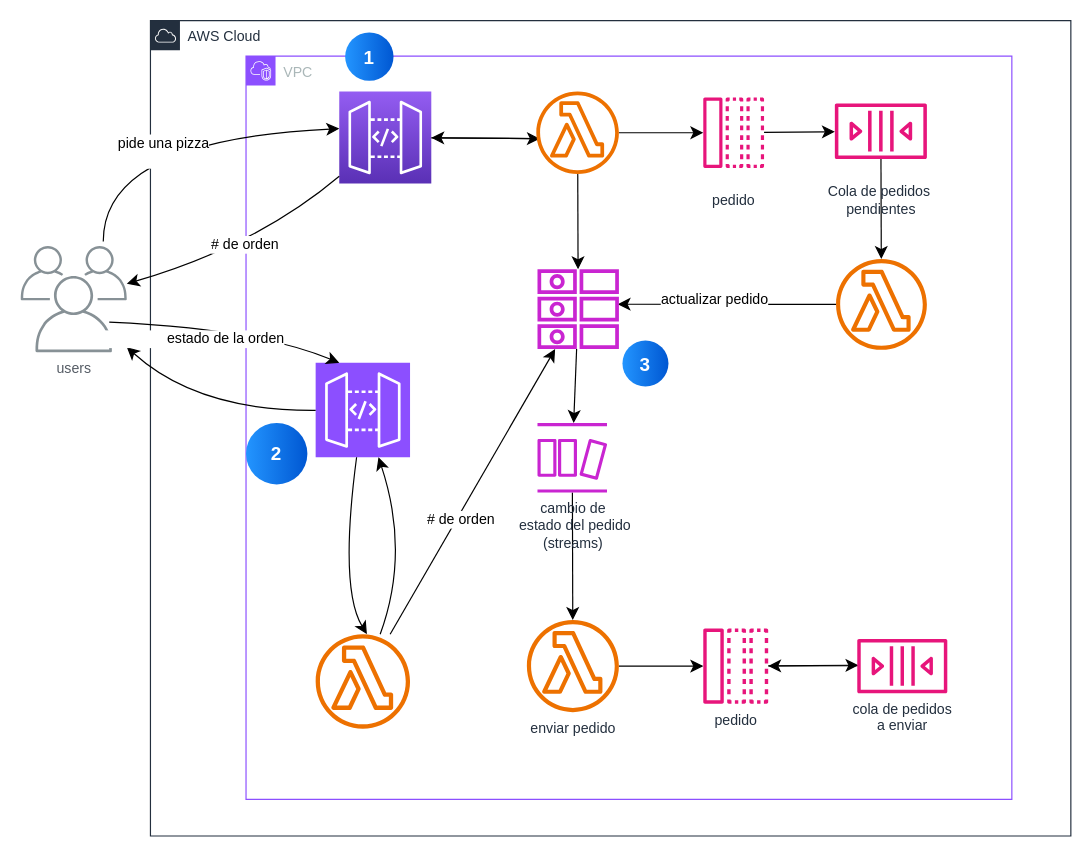
Image size: 1092x857. Some labels were removed from this diagram. The shapes that lost their labels are listed below. From the top down, each one's box as (x1, y1, x2, y2) in pixels, then its label:
(338, 90, 431, 183): POST/order
(536, 91, 618, 173): crear nuevo pedido
(537, 268, 618, 349): pedidos
(835, 258, 926, 349): preparar pedido
(314, 362, 410, 457): GET /order/{orderId }
(315, 634, 409, 728): chequear estado del pedido
